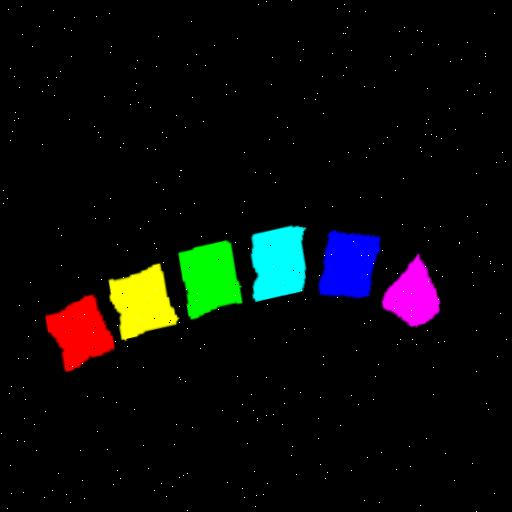L1: (52, 292, 122, 368)
L2: (116, 261, 183, 337)
L3: (184, 237, 248, 316)
L4: (258, 222, 313, 297)
L5: (324, 227, 385, 293)
S1: (388, 249, 446, 321)
